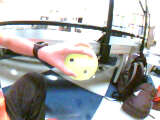Ball: (65, 47, 98, 82)
